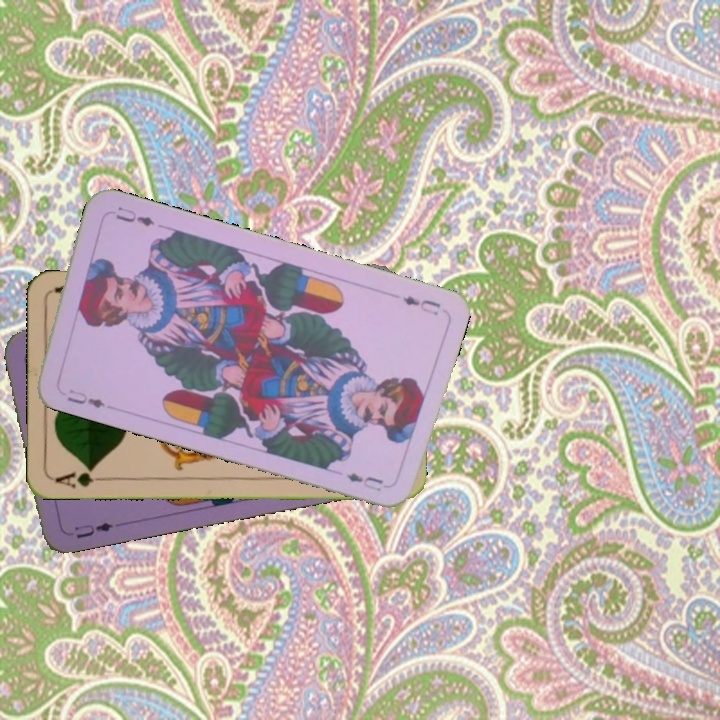EU: (63, 385, 108, 411), (399, 292, 444, 318), (70, 518, 115, 541)
GA: (51, 464, 110, 491)
